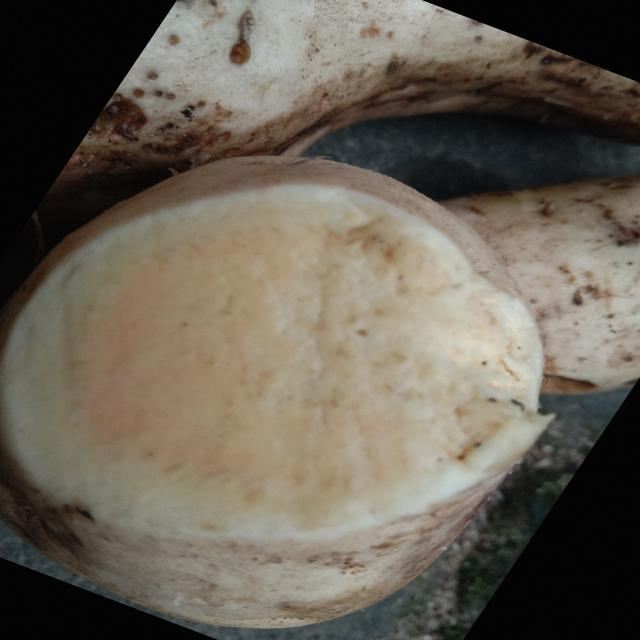Healthy Sweet Potato: (3, 185, 548, 538)
